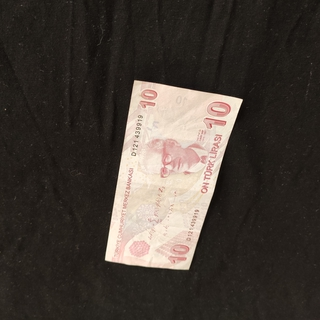10TLBack: (102, 77, 244, 271)
